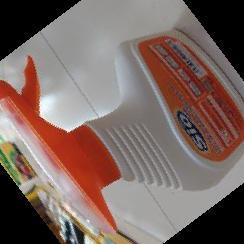sio: (1, 29, 244, 232)
